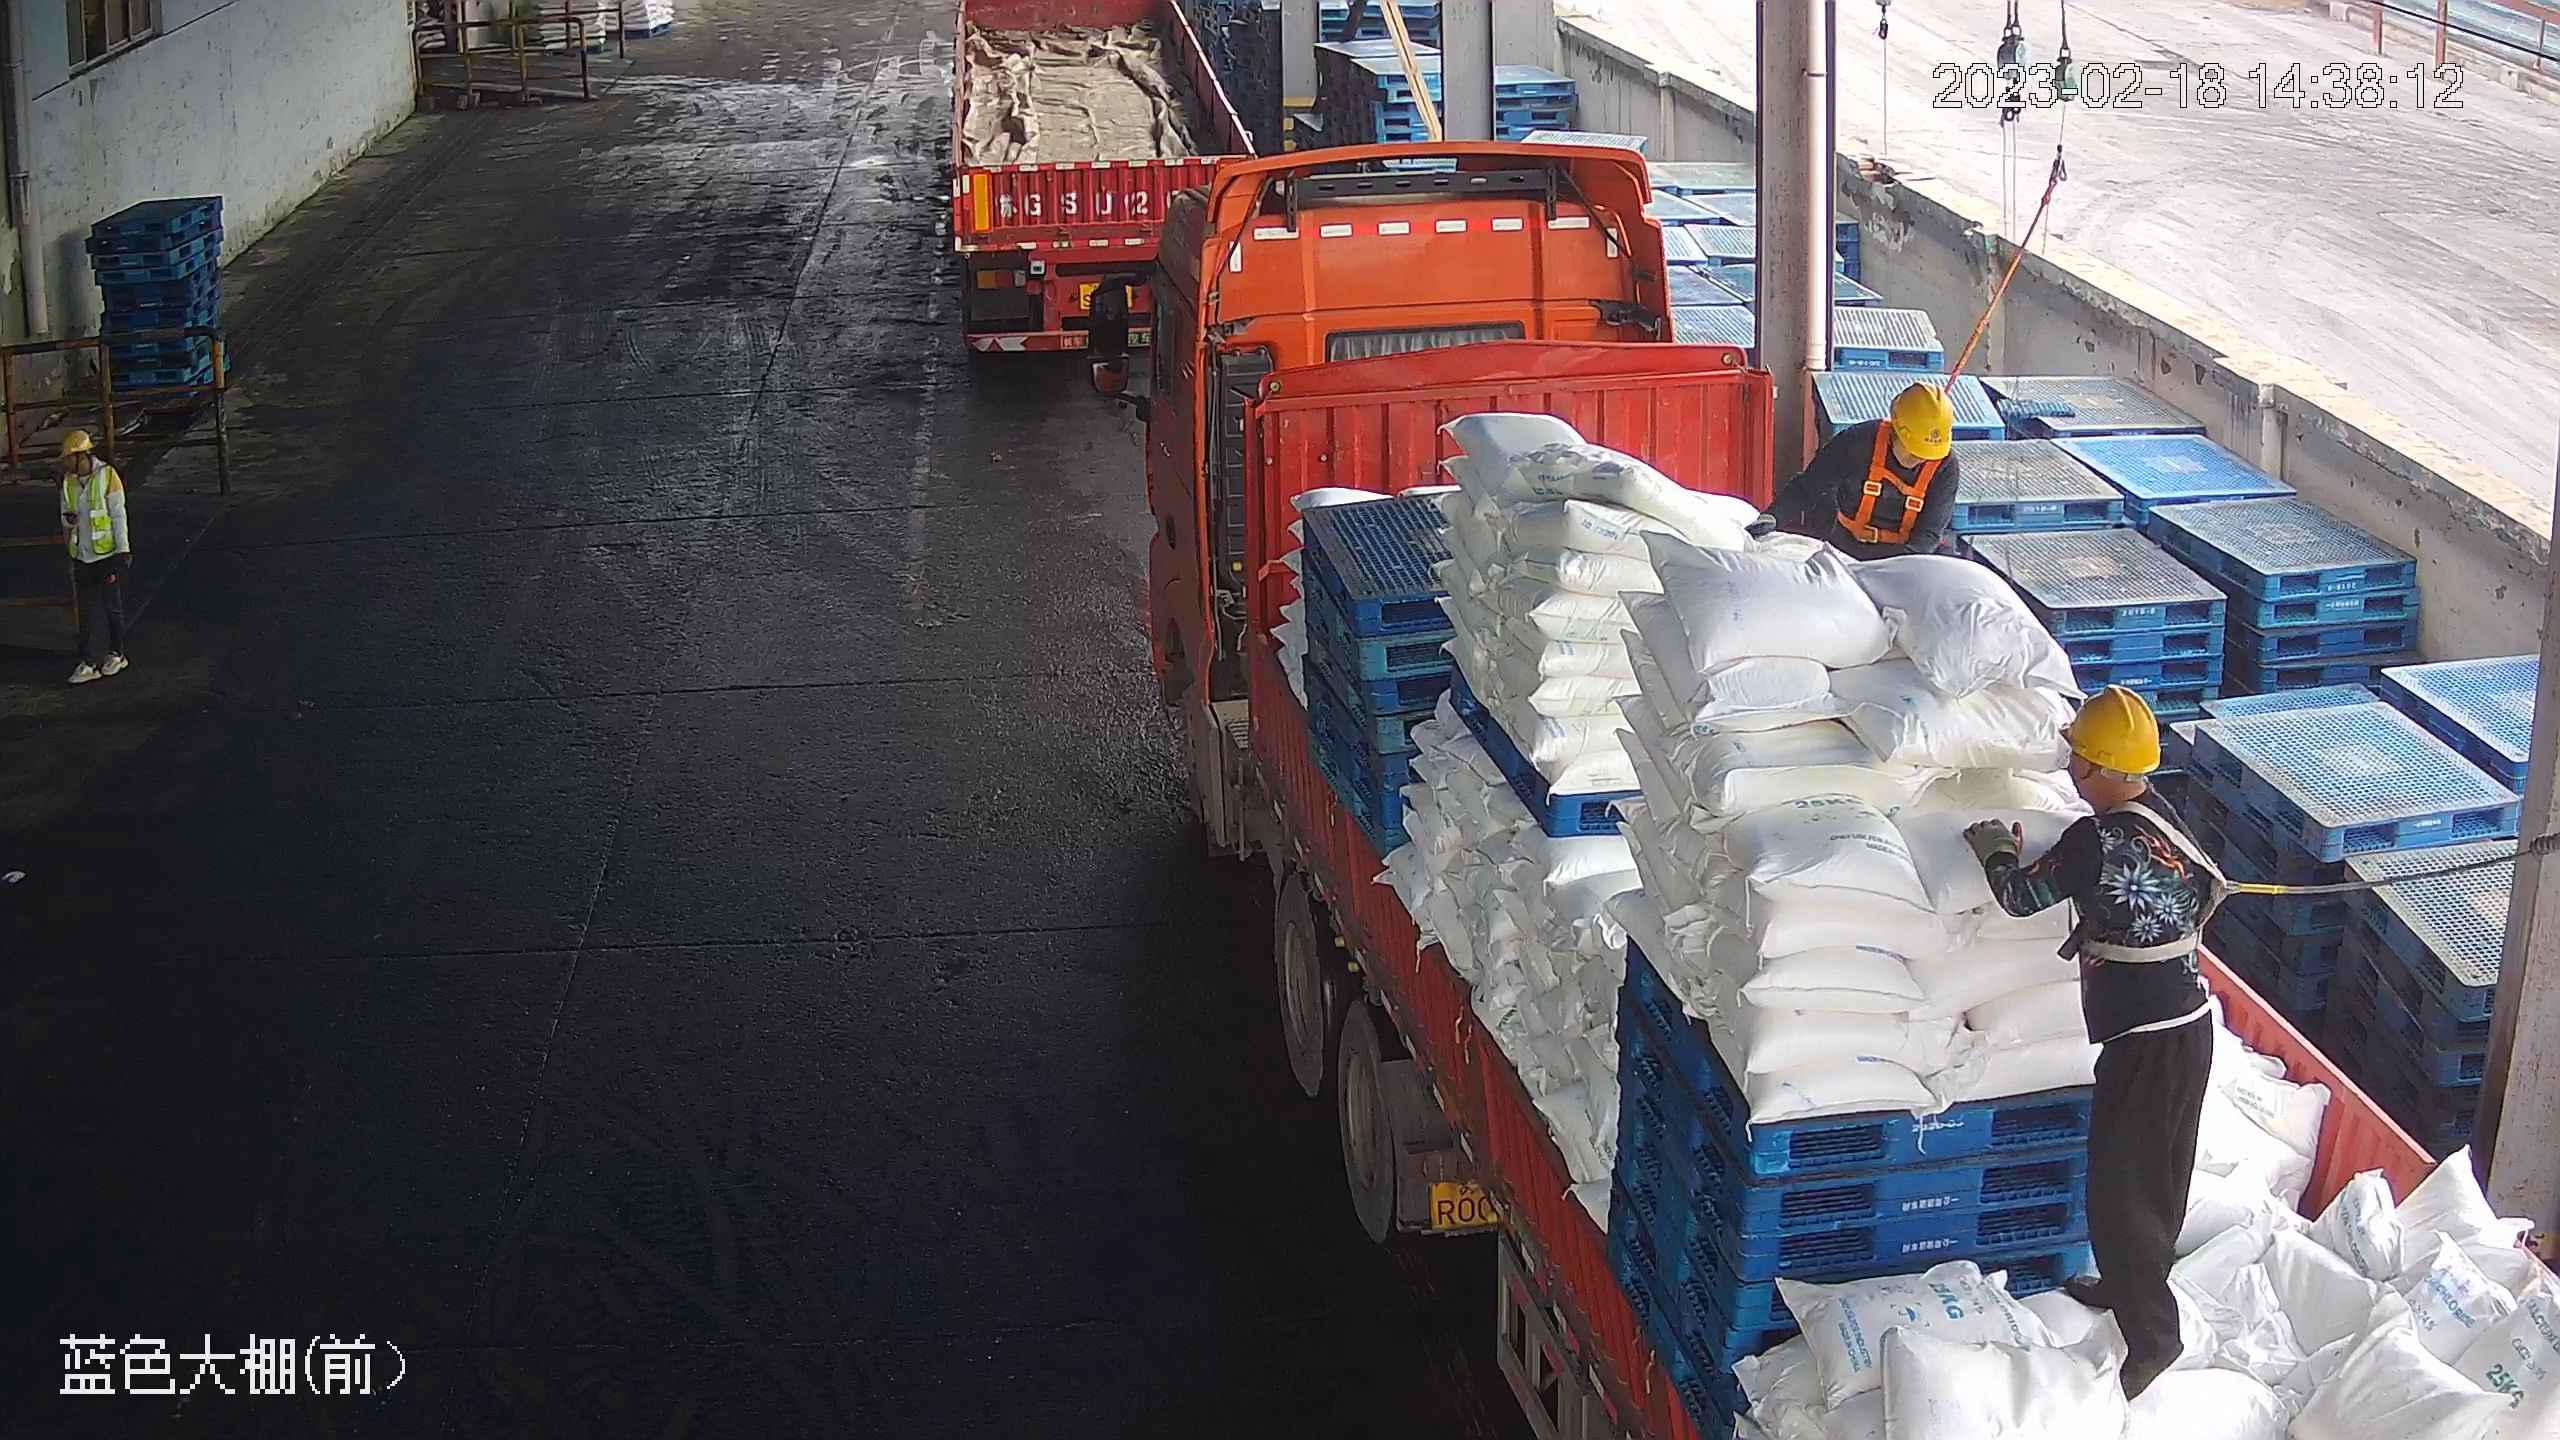belt: (2084, 809, 2237, 965), (1839, 438, 1934, 542)
head: (2044, 683, 2191, 886), (51, 416, 137, 687), (1824, 378, 1965, 494), (2052, 681, 2166, 775), (1885, 379, 1960, 465), (58, 425, 124, 503)
helmet: (1827, 379, 1964, 493), (2055, 681, 2165, 774), (1889, 380, 1960, 461), (62, 425, 98, 456)
people: (1960, 685, 2222, 1404), (48, 419, 139, 700)
truck: (1121, 148, 2559, 1437)
